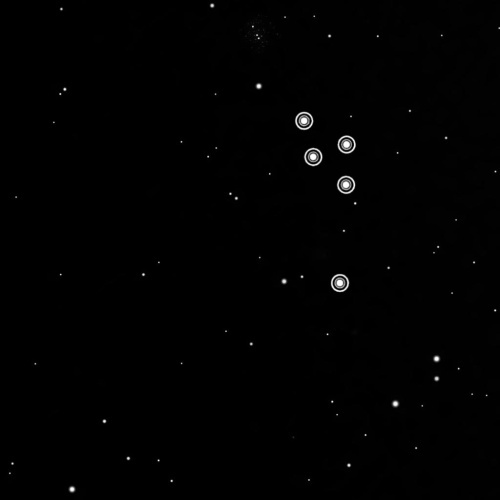delphinus: (289, 105, 360, 297)
